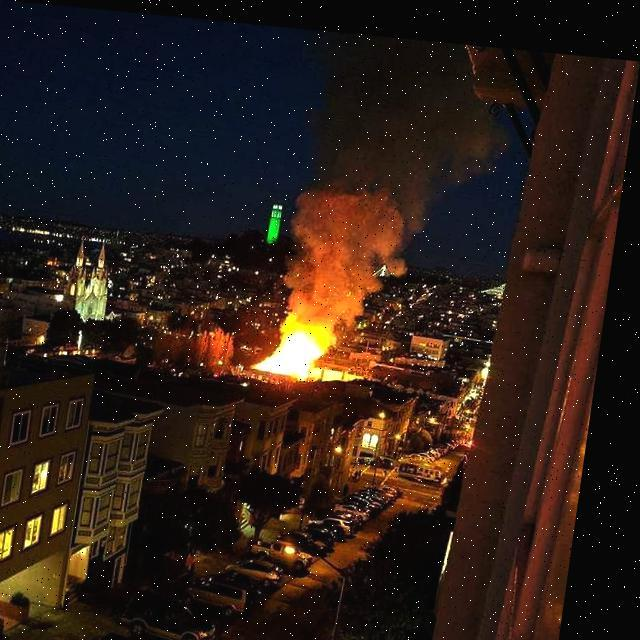Fire: (260, 300, 347, 382)
